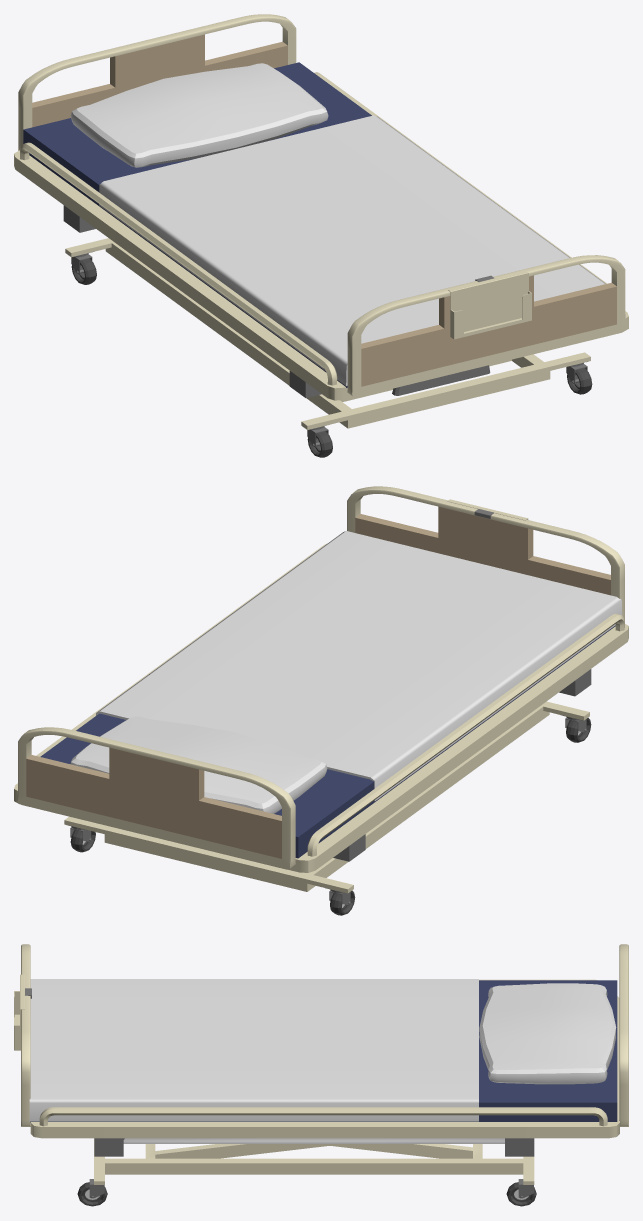
File: hospitalBed_v2.fbx
3 renders of one model, top to bottom at view 1: azimuth 30°, elevation 25°; view 2: azimuth 150°, elevation 25°; view 3: azimuth 270°, elevation 25°, orthographic. The views are drawn at different scales.
Parts seen in each view (by area): view 1: bedSheet_01_geo, bedPillow_01_geo, bedFooter_01_geo, bedHeader_01_geo, bedUnder_01_geo, bedBelow_01_geo, bedMattress_01_geo, folderHanger_geo, bedRail_01_geo, aboveWheels_01_geo, bedRail_02_geo; view 2: bedSheet_01_geo, bedHeader_01_geo, bedFooter_01_geo, bedPillow_01_geo, bedUnder_01_geo, bedBelow_01_geo, bedMattress_01_geo, bedRail_01_geo, bedRail_02_geo; view 3: bedSheet_01_geo, bedPillow_01_geo, bedUnder_01_geo, bedBelow_01_geo, bedMattress_01_geo, bedRail_02_geo, bedBelow_02_geo, bedHeader_01_geo, bedFooter_01_geo, folderHanger_geo, aboveWheels_01_geo, aboveWheels_02_geo (+2 smaller).
Boxes of the visible parts, bbox=[...] form: bedSheet_01_geo: bbox=[99, 115, 625, 385]; bedPillow_01_geo: bbox=[70, 63, 328, 167]; bedFooter_01_geo: bbox=[347, 255, 625, 397]; bedHeader_01_geo: bbox=[18, 14, 296, 150]; bedUnder_01_geo: bbox=[65, 238, 590, 429]; bedBelow_01_geo: bbox=[14, 150, 628, 400]; bedMattress_01_geo: bbox=[23, 62, 371, 387]; folderHanger_geo: bbox=[448, 271, 531, 339]; bedRail_01_geo: bbox=[20, 142, 337, 385]; aboveWheels_01_geo: bbox=[289, 365, 490, 397]; bedRail_02_geo: bbox=[314, 72, 606, 283]; bedSheet_01_geo: bbox=[96, 531, 622, 801]; bedHeader_01_geo: bbox=[17, 727, 295, 869]; bedFooter_01_geo: bbox=[347, 486, 624, 622]; bedPillow_01_geo: bbox=[70, 716, 327, 813]; bedUnder_01_geo: bbox=[64, 701, 589, 893]; bedBelow_01_geo: bbox=[14, 624, 628, 872]; bedMattress_01_geo: bbox=[40, 625, 615, 858]; bedRail_01_geo: bbox=[307, 613, 624, 856]; bedRail_02_geo: bbox=[36, 543, 327, 756]; bedSheet_01_geo: bbox=[29, 979, 478, 1121]; bedPillow_01_geo: bbox=[479, 983, 616, 1084]; bedUnder_01_geo: bbox=[94, 1138, 534, 1184]; bedBelow_01_geo: bbox=[30, 996, 619, 1138]; bedMattress_01_geo: bbox=[30, 980, 617, 1122]; bedRail_02_geo: bbox=[39, 1107, 607, 1126]; bedBelow_02_geo: bbox=[123, 1138, 504, 1143]; bedHeader_01_geo: bbox=[619, 944, 628, 1126]; bedFooter_01_geo: bbox=[21, 944, 30, 1126]; folderHanger_geo: bbox=[14, 974, 31, 1050]; aboveWheels_01_geo: bbox=[94, 1138, 123, 1156]; aboveWheels_02_geo: bbox=[505, 1138, 534, 1156].
Bounding box in the file's own units: 311 × 170 × 608.
